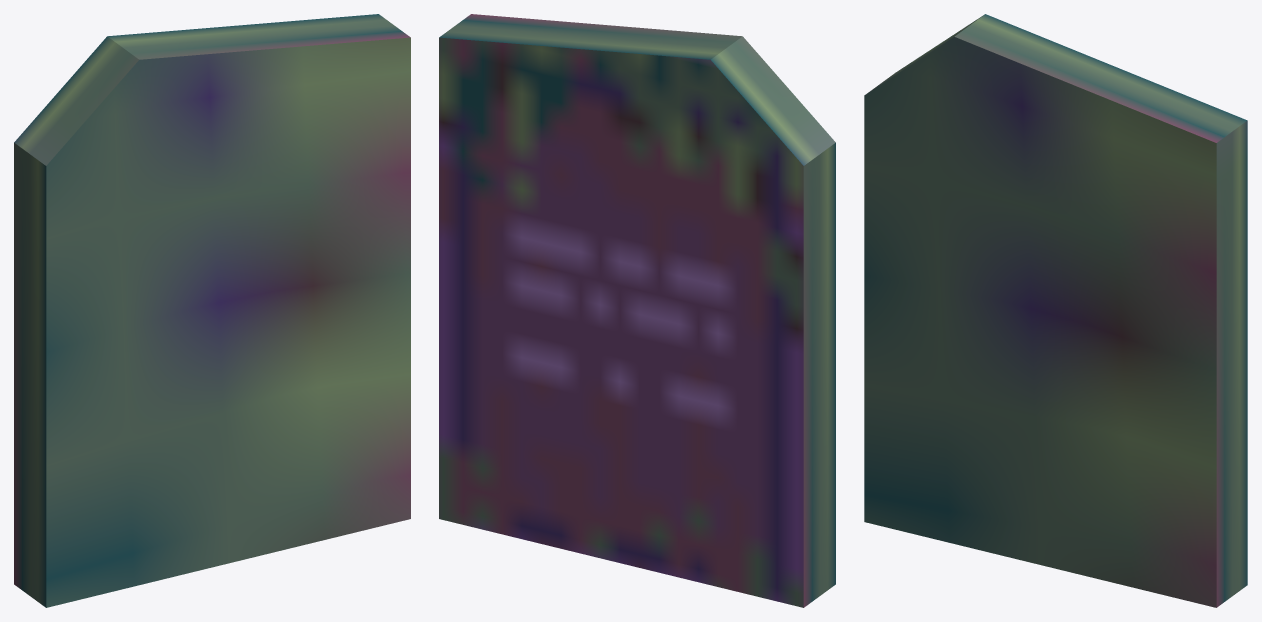
Rendered from Grave_1.obj.
3 views of the same model, side by side, from view 1: azimuth 30°, elevation 25°; view 2: azimuth 150°, elevation 25°; view 3: azimuth 330°, elevation 25° (orthographic). The views are drawn at different scales.
Visible parts, largest first — view 1: Cube.014_Cube.015; view 2: Cube.014_Cube.015; view 3: Cube.014_Cube.015.
Part boxes in pixels (left/top/right/bottom): Cube.014_Cube.015: left=14, top=14, right=410, bottom=607; Cube.014_Cube.015: left=439, top=14, right=835, bottom=607; Cube.014_Cube.015: left=864, top=14, right=1247, bottom=607.
Size of the model in its own units: 1.41 by 1.94 by 0.2157.
